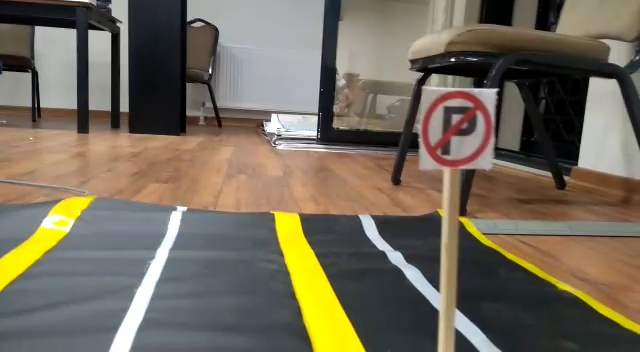park_yapilmaz: (419, 87, 493, 171)
